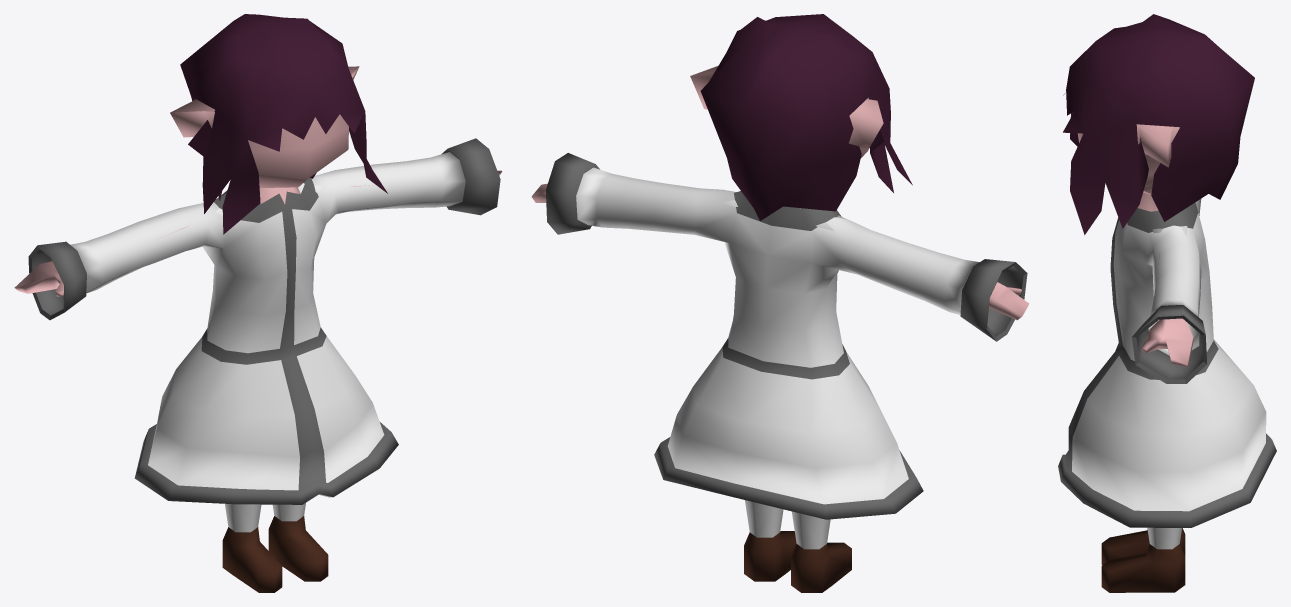
Rendered from Chouko.fbx.
3 renders of one model, left to right at view 1: azimuth 30°, elevation 25°; view 2: azimuth 150°, elevation 25°; view 3: azimuth 270°, elevation 25°, orthographic. The views are drawn at different scales.
Parts seen in each view (by area): view 1: Dress, Hair, Boots, Face, Body, Legs; view 2: Dress, Hair, Boots, Body, Legs; view 3: Dress, Hair, Boots, Body, Legs.
Part boxes in pixels (x1,y1,x2,y2): Dress: [28, 138, 500, 504]; Hair: [180, 14, 387, 234]; Boots: [222, 516, 328, 592]; Face: [248, 114, 348, 187]; Body: [14, 66, 502, 296]; Legs: [225, 503, 305, 532]; Dress: [545, 153, 1027, 519]; Hair: [700, 14, 912, 220]; Boots: [744, 531, 851, 592]; Body: [531, 65, 1029, 320]; Legs: [745, 500, 830, 549]; Dress: [1058, 199, 1276, 527]; Hair: [1063, 14, 1254, 234]; Boots: [1101, 528, 1185, 592]; Body: [1136, 124, 1193, 367]; Legs: [1147, 527, 1181, 549].
Bounding box in the file's own units: 922 × 993 × 361.
